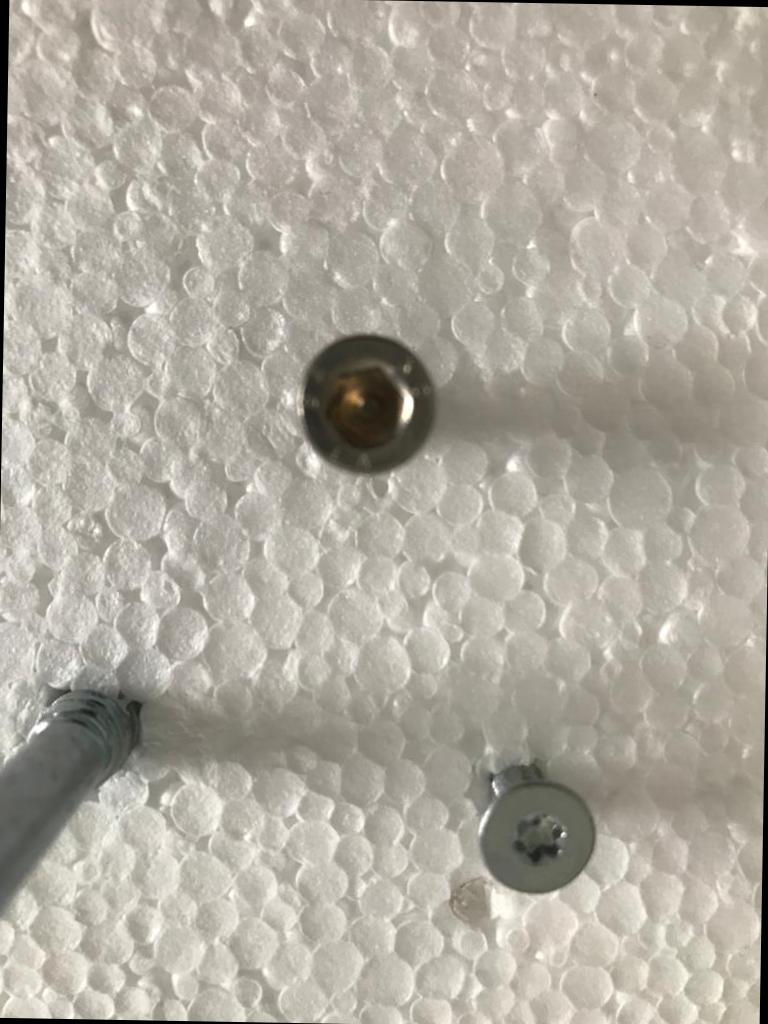H: (298, 332, 440, 480)
